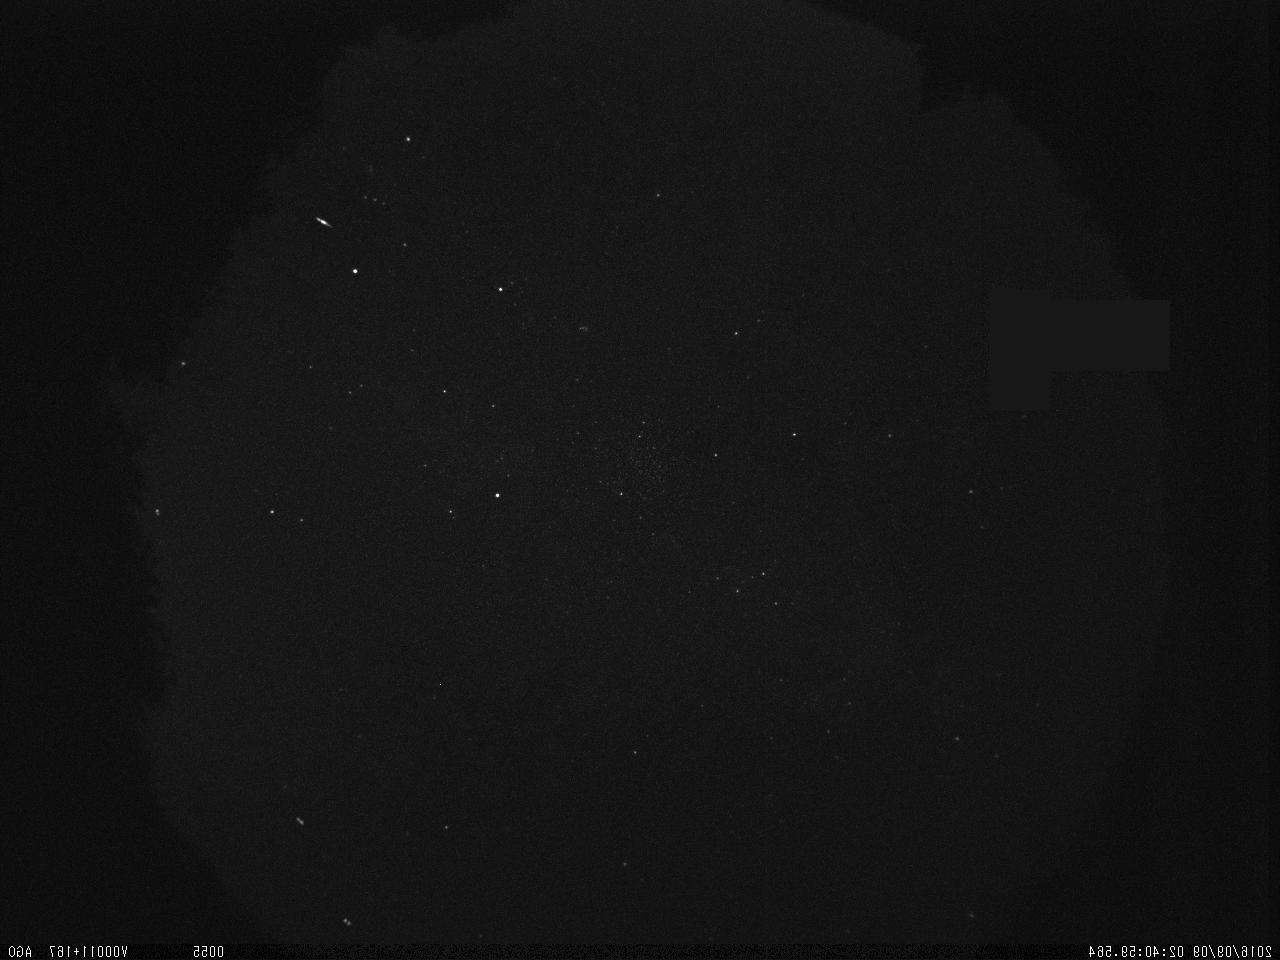meteor: (310, 210, 337, 237)
